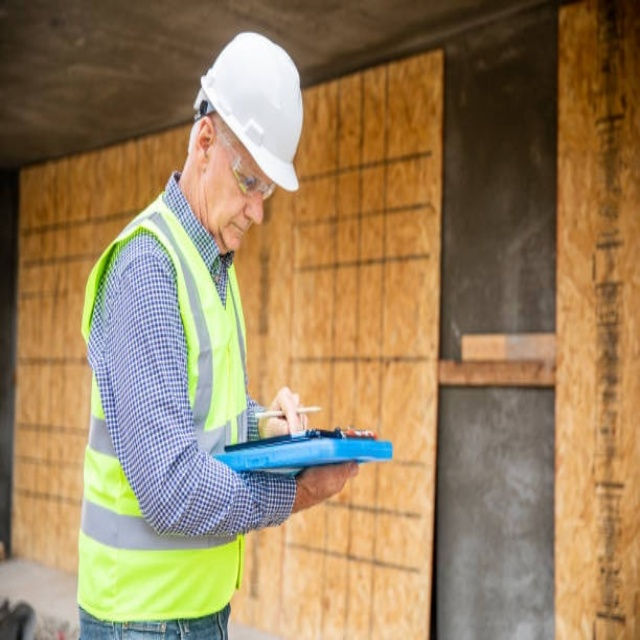Gafas: (204, 119, 278, 202)
Sin_guantes: (295, 459, 363, 508), (266, 386, 307, 438)
Sin_mascara: (224, 207, 258, 253)
